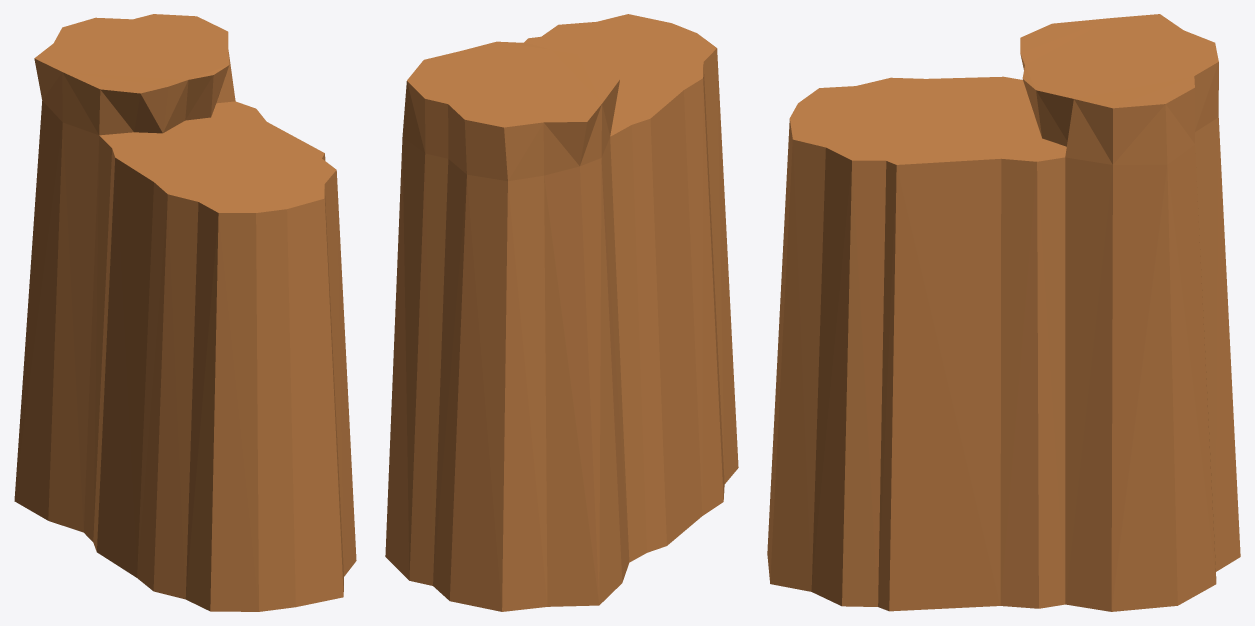
File: Collider_ground2.fbx
3 renders of one model, left to right at view 1: azimuth 30°, elevation 25°; view 2: azimuth 150°, elevation 25°; view 3: azimuth 270°, elevation 25°, orthographic. The views are drawn at different scales.
Visible parts, largest first — view 1: 圆环.012; view 2: 圆环.012; view 3: 圆环.012.
Part boxes in pixels (x1=…): 圆环.012: x1=14, y1=14, x2=356, y2=611; 圆环.012: x1=385, y1=14, x2=738, y2=611; 圆环.012: x1=767, y1=14, x2=1240, y2=611.
Bounding box in the file's own units: 1025 × 1830 × 2118.
